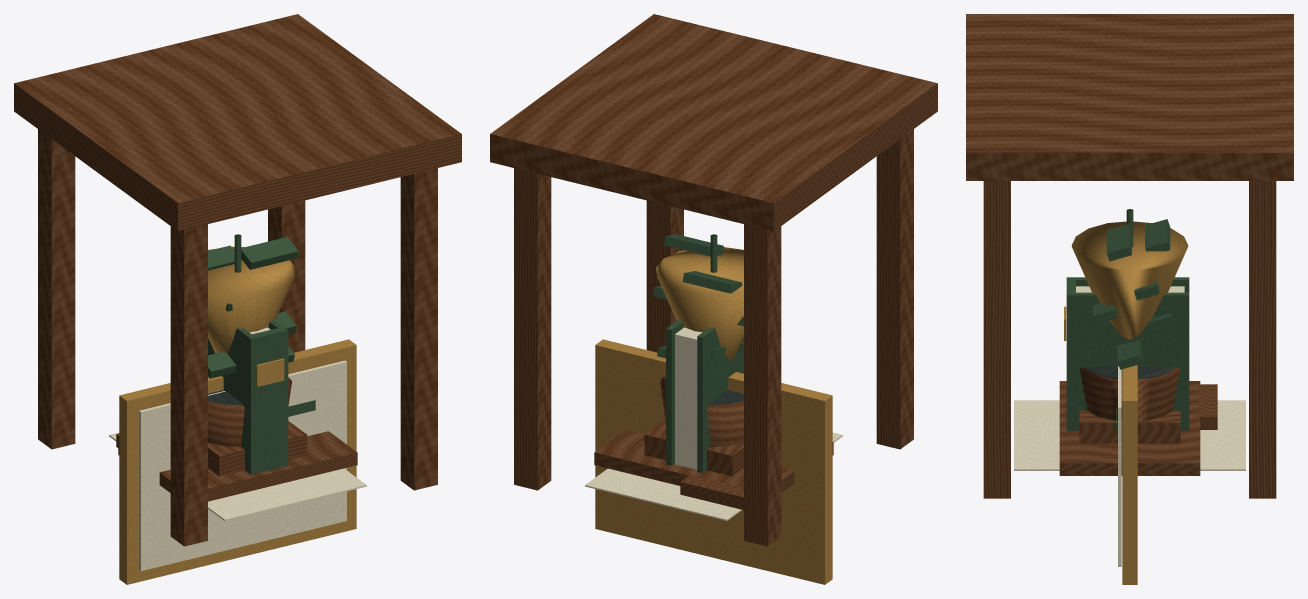
Rendered from reward-kit.glb.
3 views of the same model, side by side, from view 1: azimuth 30°, elevation 25°; view 2: azimuth 150°, elevation 25°; view 3: azimuth 270°, elevation 25° (orthographic).
Parts seen in each view (by area): view 1: side_table_top, certificate_paper, side_table_leg_-0.170.17, side_table_leg_0.170.17, side_table_leg_-0.17-0.17, certificate_frame, trophy_cup, book_spine, folder_body, document_sheet, side_table_leg_0.17-0.17, trophy_plinth (+5 smaller); view 2: side_table_top, certificate_frame, side_table_leg_-0.17-0.17, side_table_leg_0.17-0.17, side_table_leg_-0.170.17, trophy_cup, folder_body, side_table_leg_0.170.17, book_pages, document_sheet, book_cover_-0.023, trophy_plinth (+5 smaller); view 3: side_table_top, side_table_leg_0.17-0.17, side_table_leg_0.170.17, trophy_cup, book_cover_0.023, document_sheet, folder_body, certificate_frame, plant_pot_1, trophy_plinth, book_spine, folder_tab (+5 smaller).
Boxes of the visible parts, <box> form: side_table_top: <box>14,14,461,231</box>; certificate_paper: <box>139,360,346,571</box>; side_table_leg_-0.170.17: <box>170,224,207,546</box>; side_table_leg_0.170.17: <box>400,168,437,490</box>; side_table_leg_-0.17-0.17: <box>38,129,75,449</box>; certificate_frame: <box>119,339,356,584</box>; trophy_cup: <box>208,246,295,353</box>; book_spine: <box>246,327,288,474</box>; folder_body: <box>118,431,357,501</box>; document_sheet: <box>109,432,366,520</box>; side_table_leg_0.17-0.17: <box>268,200,305,352</box>; trophy_plinth: <box>208,421,307,476</box>; side_table_top: <box>490,14,937,231</box>; certificate_frame: <box>595,339,832,584</box>; side_table_leg_-0.17-0.17: <box>744,224,781,546</box>; side_table_leg_0.17-0.17: <box>514,168,551,490</box>; side_table_leg_-0.170.17: <box>876,129,913,449</box>; trophy_cup: <box>656,247,743,360</box>; folder_body: <box>594,429,833,492</box>; side_table_leg_0.170.17: <box>646,200,683,352</box>; book_pages: <box>675,327,702,469</box>; document_sheet: <box>585,432,842,520</box>; book_cover_-0.023: <box>697,328,743,473</box>; trophy_plinth: <box>644,419,743,476</box>; side_table_top: <box>966,14,1293,180</box>; side_table_leg_0.17-0.17: <box>1249,181,1276,498</box>; side_table_leg_0.170.17: <box>983,181,1010,498</box>; trophy_cup: <box>1071,221,1188,339</box>; book_cover_0.023: <box>1076,292,1189,430</box>; document_sheet: <box>1014,400,1245,470</box>; folder_body: <box>1059,381,1200,475</box>; certificate_frame: <box>1122,365,1137,584</box>; plant_pot_1: <box>1079,368,1180,421</box>; trophy_plinth: <box>1079,410,1180,443</box>; book_spine: <box>1066,277,1075,431</box>; folder_tab: <box>1198,384,1217,429</box>.
Bounding box in the file's own units: 0.42 × 0.63 × 0.42.
5 materials, 5 textured.
